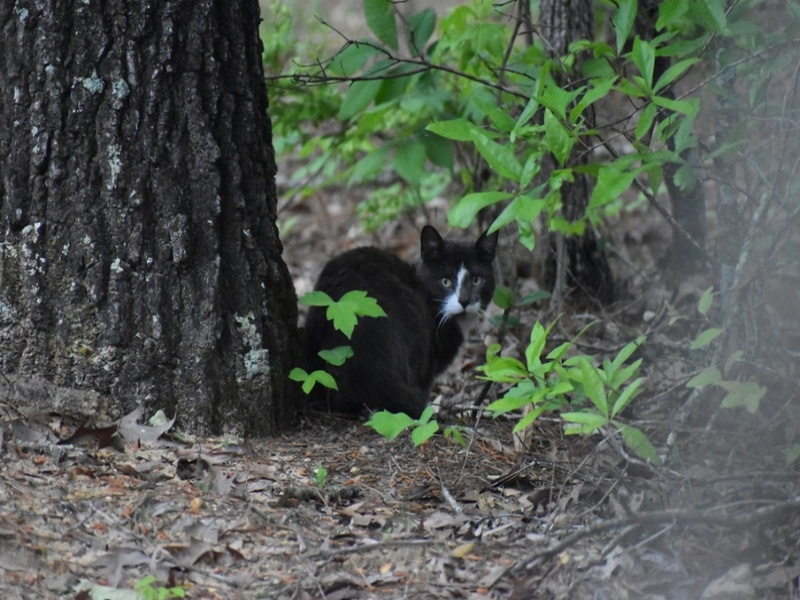cat: (297, 212, 500, 436)
